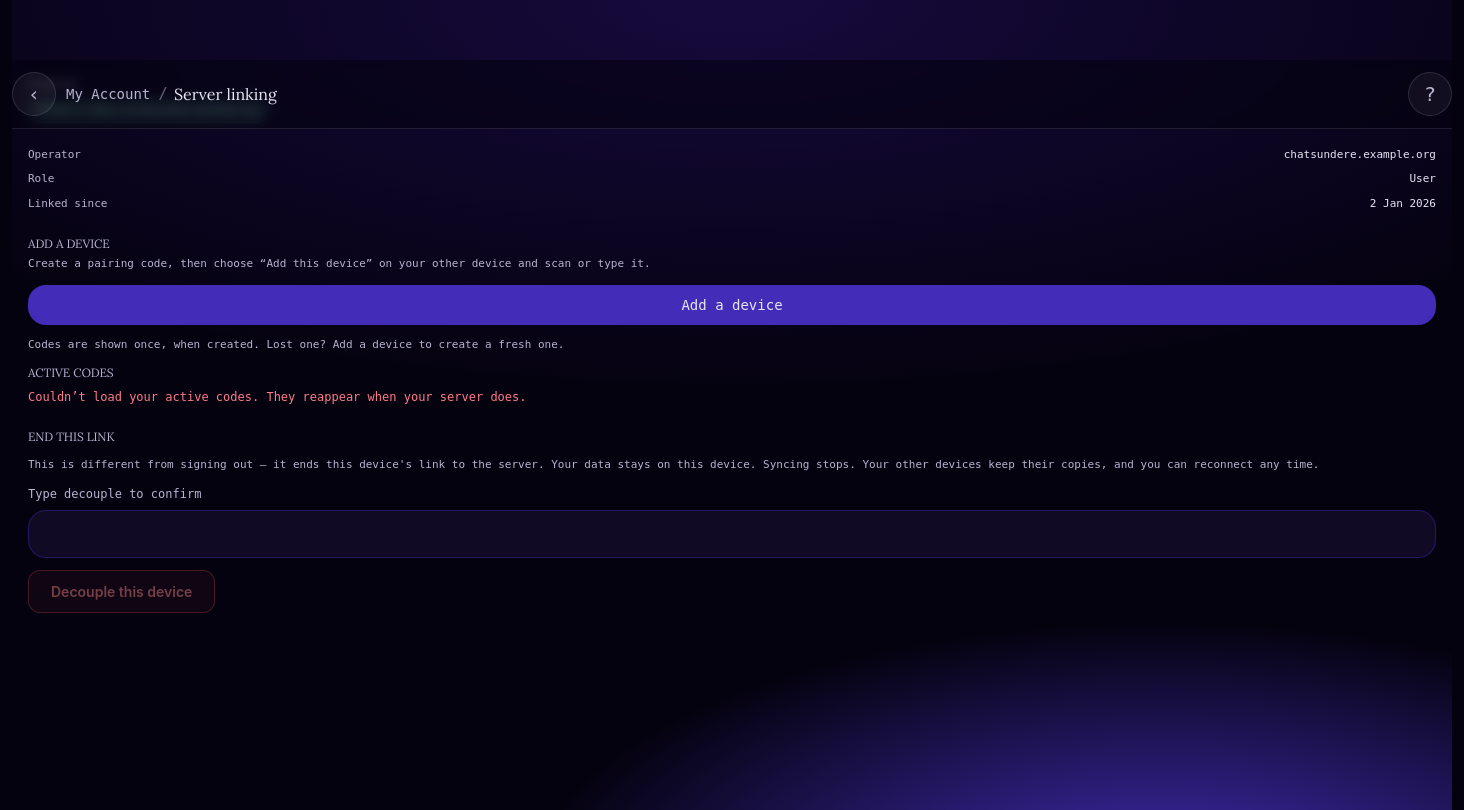
ServerLinkingPage — decouple this device › renders the "End this link" section with the confirm disabled until "decouple" is typed
This screenshot has width=1464, height=810.
Expected: the heading "End this link" is shown, [28,429,114,444]
Expected: the button "Decouple this device" is disabled, [28,570,215,612]
In the field labelled "Type decouple to confirm": (732, 534) [28,510,1436,558], type "decouple"
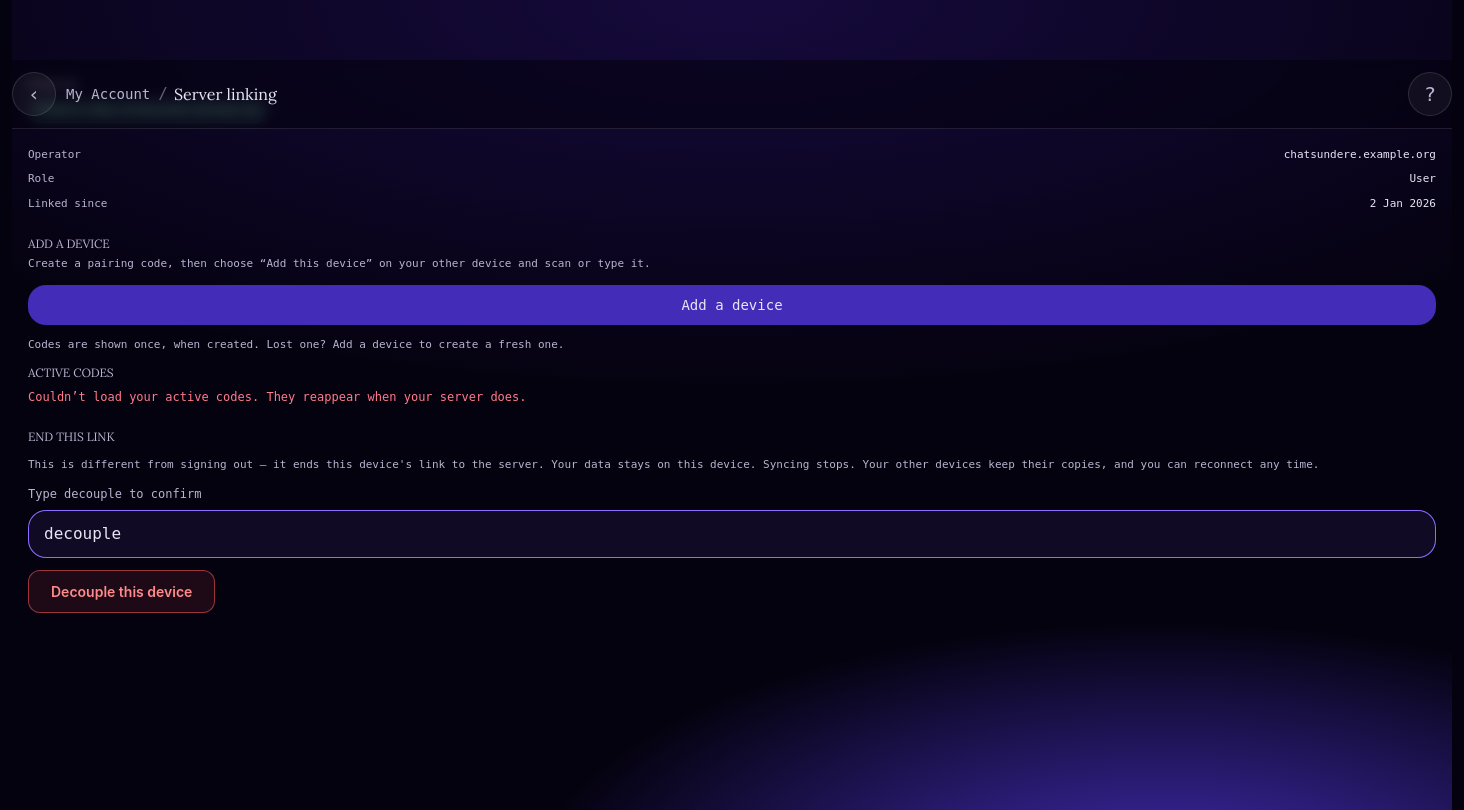
Now the button "Decouple this device" is enabled, box [28,570,215,612]
